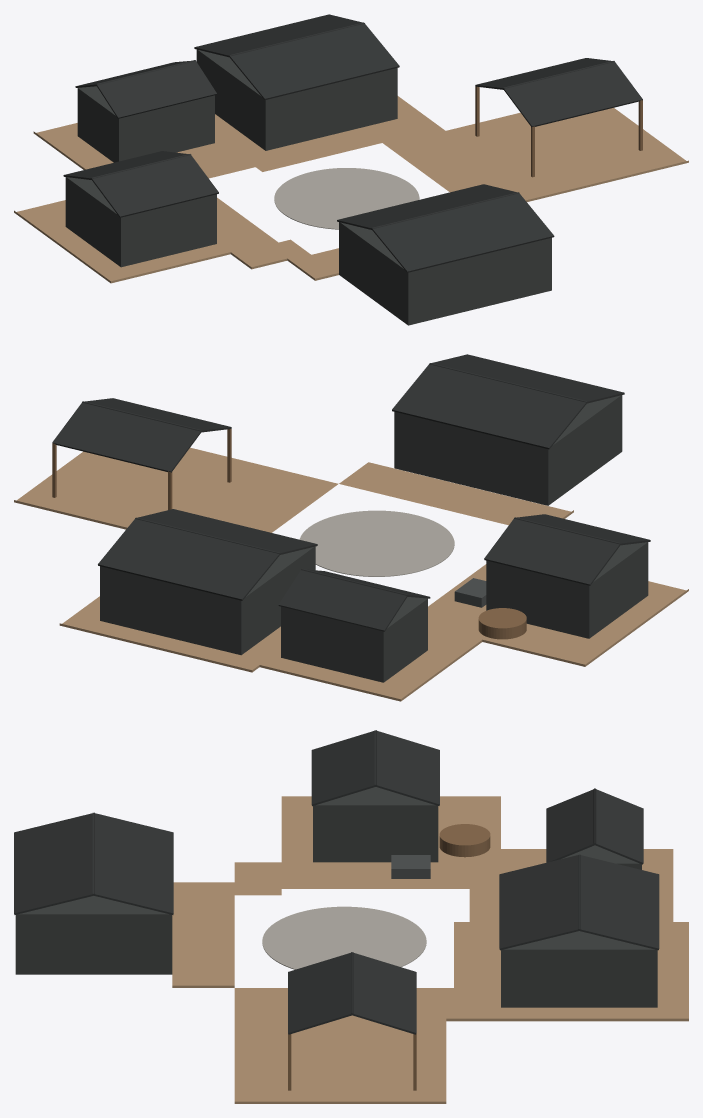
The model's file is crude_master_compound.glb.
3 views of the same model, one above another, from view 1: azimuth 30°, elevation 25°; view 2: azimuth 150°, elevation 25°; view 3: azimuth 270°, elevation 25° (orthographic). The views are drawn at different scales.
Parts seen in each view (by area): view 1: S8_final_contiguous_deck_0, S1_main_tiny_home_walls, S6_adu_walls, S4_bathhouse_walls, S1_main_tiny_home_roof_0, S6_adu_roof_0, S7_guest_cabin_walls, S3_firepit_pad, S8_kitchen_roof_0, S4_bathhouse_roof_0, S7_guest_cabin_roof_0, S1_main_tiny_home_roof_1 (+4 smaller); view 2: S8_final_contiguous_deck_0, S1_main_tiny_home_walls, S6_adu_walls, S1_main_tiny_home_roof_1, S4_bathhouse_walls, S6_adu_roof_1, S7_guest_cabin_walls, S3_firepit_pad, S8_kitchen_roof_1, S4_bathhouse_roof_1, S7_guest_cabin_roof_1, S1_main_tiny_home_roof_0 (+6 smaller); view 3: S8_final_contiguous_deck_0, S1_main_tiny_home_walls, S6_adu_walls, S4_bathhouse_walls, S3_firepit_pad, S1_main_tiny_home_roof_1, S1_main_tiny_home_roof_0, S6_adu_roof_1, S6_adu_roof_0, S8_kitchen_roof_1, S8_kitchen_roof_0, S4_bathhouse_roof_0 (+6 smaller).
Part boxes in pixels (box(x1,y1,x2,y2)): S8_final_contiguous_deck_0: box(14, 96, 688, 283); S1_main_tiny_home_walls: box(339, 222, 551, 325); S6_adu_walls: box(196, 49, 397, 150); S4_bathhouse_walls: box(65, 177, 216, 267); S1_main_tiny_home_roof_0: box(372, 192, 554, 272); S6_adu_roof_0: box(229, 22, 399, 99); S7_guest_cabin_walls: box(77, 86, 214, 162); S3_firepit_pad: box(274, 168, 419, 229); S8_kitchen_roof_0: box(503, 61, 642, 127); S4_bathhouse_roof_0: box(91, 154, 218, 217); S7_guest_cabin_roof_0: box(96, 60, 216, 118); S1_main_tiny_home_roof_1: box(337, 184, 519, 229); S8_final_contiguous_deck_0: box(14, 447, 688, 701); S1_main_tiny_home_walls: box(394, 395, 622, 505); S6_adu_walls: box(100, 546, 315, 655); S1_main_tiny_home_roof_1: box(392, 363, 587, 449); S4_bathhouse_walls: box(486, 542, 648, 638); S6_adu_roof_1: box(98, 517, 280, 600); S7_guest_cabin_walls: box(281, 597, 427, 682); S3_firepit_pad: box(299, 510, 454, 576); S8_kitchen_roof_1: box(52, 401, 201, 472); S4_bathhouse_roof_1: box(484, 517, 620, 585); S7_guest_cabin_roof_1: box(278, 568, 407, 631); S1_main_tiny_home_roof_0: box(429, 354, 624, 403); S8_final_contiguous_deck_0: box(172, 796, 688, 1103); S1_main_tiny_home_walls: box(15, 896, 172, 974); S6_adu_walls: box(501, 931, 657, 1007); S4_bathhouse_walls: box(313, 787, 438, 862); S3_firepit_pad: box(262, 906, 426, 969); S1_main_tiny_home_roof_1: box(92, 812, 173, 914); S1_main_tiny_home_roof_0: box(14, 812, 95, 914); S6_adu_roof_1: box(578, 854, 659, 950); S6_adu_roof_0: box(499, 854, 580, 950); S8_kitchen_roof_1: box(351, 952, 416, 1034); S8_kitchen_roof_0: box(288, 952, 353, 1034); S4_bathhouse_roof_0: box(311, 730, 376, 806).
Bounding box in the file's own units: 93 × 11.61 × 86.2.
